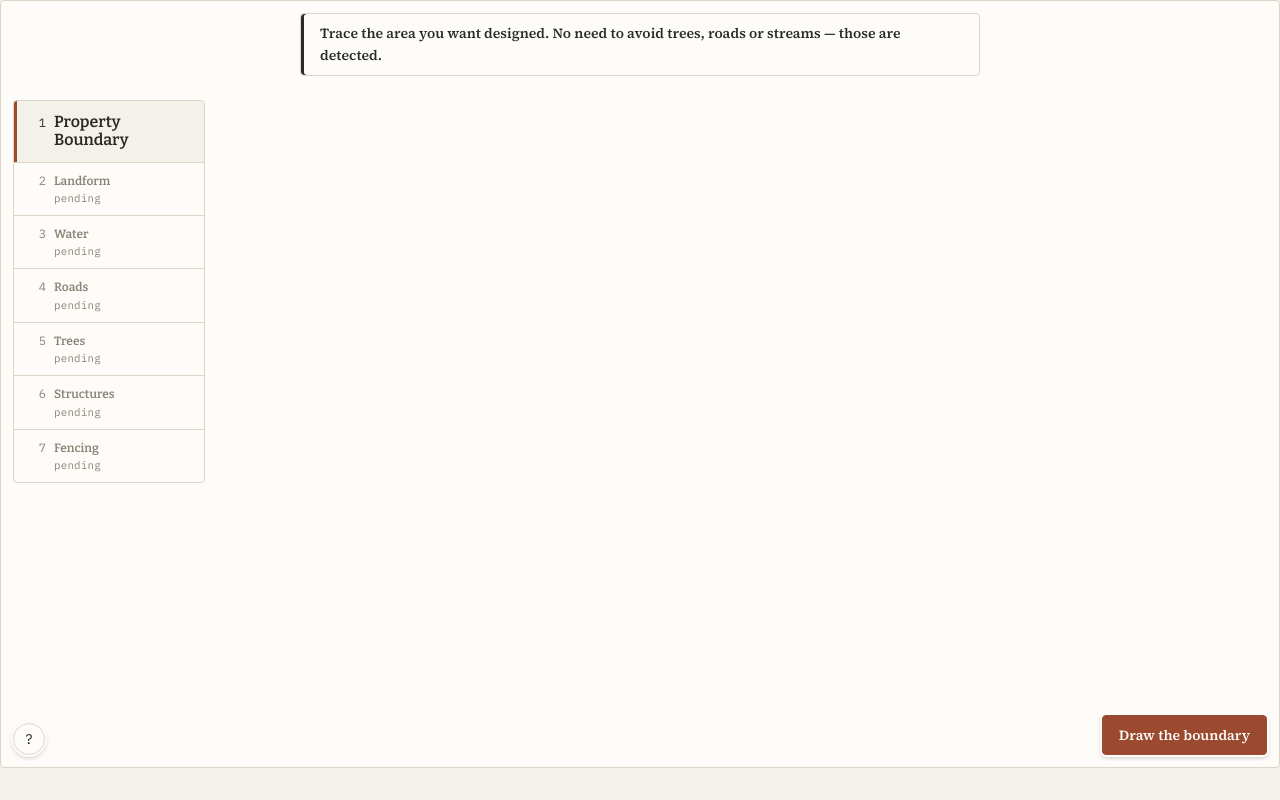
Scenario: 3. paging and closing › pages with the dots, which are buttons that mark the current card
Later steps or results of the test are not shown.
What coordinates should you click on to do the following:
click the button with test id "tutorial-help"
I would click on:
 (29, 739)
Its box is [13,723,45,755].
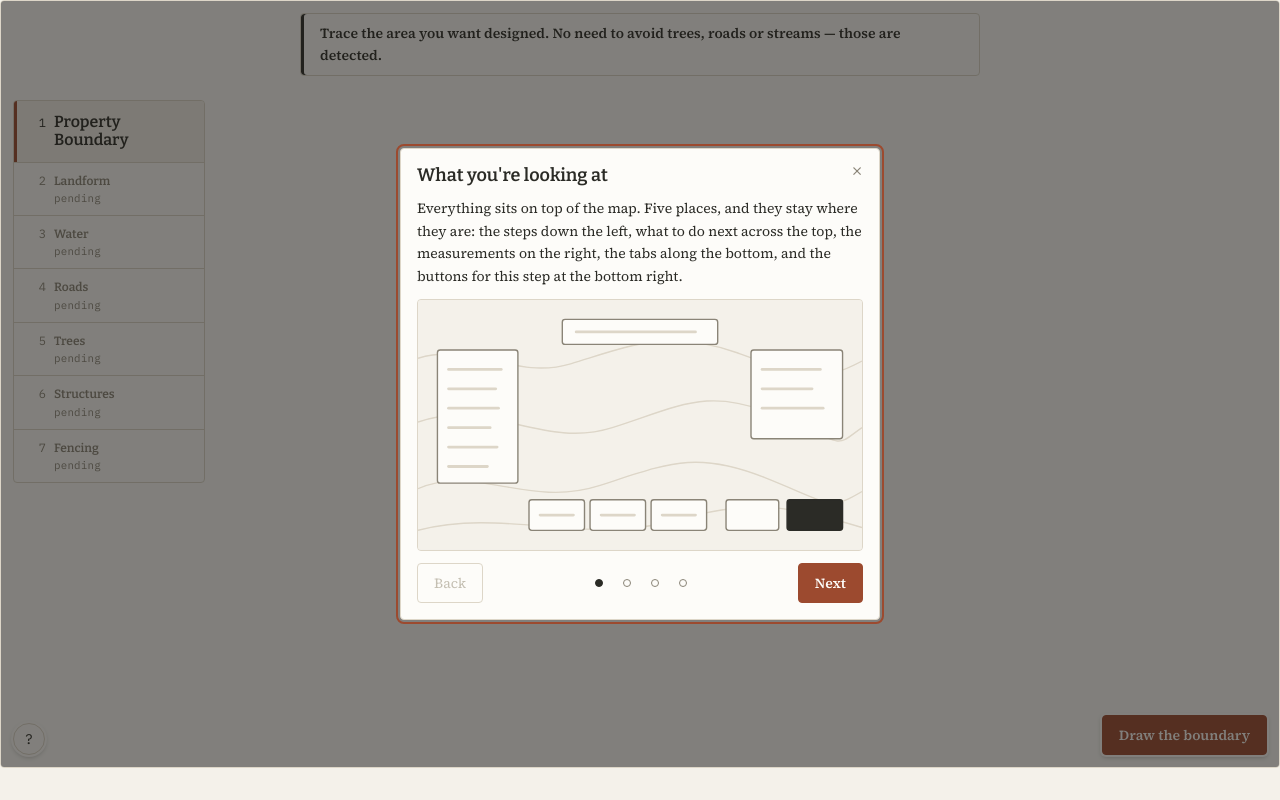
What coordinates should you click on to do the following:
click the button named "Card 3 of 4: Click to read"
I would click on:
 (654, 583)
Its box is [642,571,666,595].
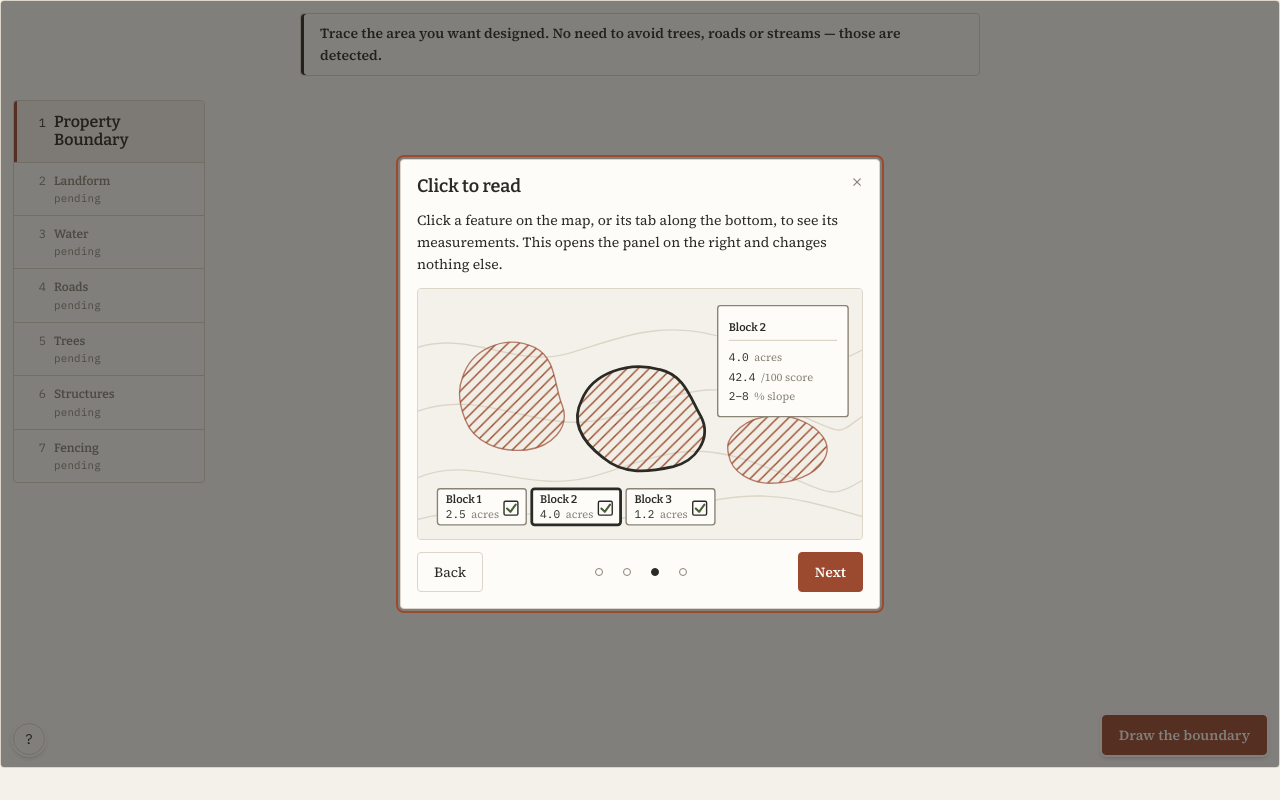
Now the heading "Click to read" is shown, box [417,175,521,197]
